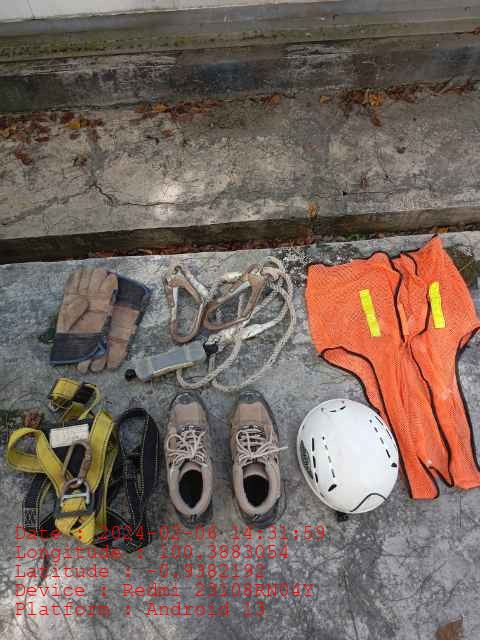HELM: (296, 399, 399, 513)
SARUNG_TANGAN: (50, 267, 117, 363)
SEPATU: (164, 393, 282, 529)
TAMBANG_SLING: (151, 254, 297, 394)
